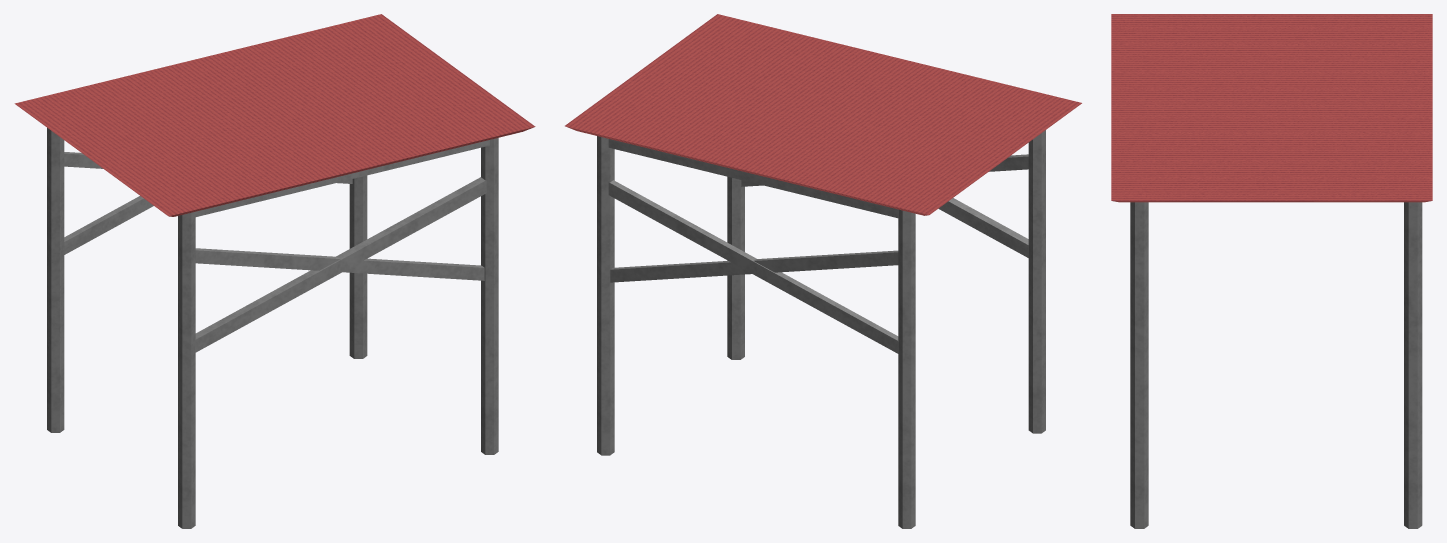
File: Andaime.fbx
3 views of the same model, side by side, from view 1: azimuth 30°, elevation 25°; view 2: azimuth 150°, elevation 25°; view 3: azimuth 270°, elevation 25° (orthographic). The views are drawn at different scales.
Parts seen in each view (by area): view 1: LOD_0; view 2: LOD_0; view 3: LOD_0.
Boxes of the visible parts, x1,y1,x2,y2 form: LOD_0: (14, 14, 535, 528); LOD_0: (565, 14, 1081, 528); LOD_0: (1111, 14, 1432, 528).
Size of what is drawn, in the model's own units: 485 by 413 by 352.
